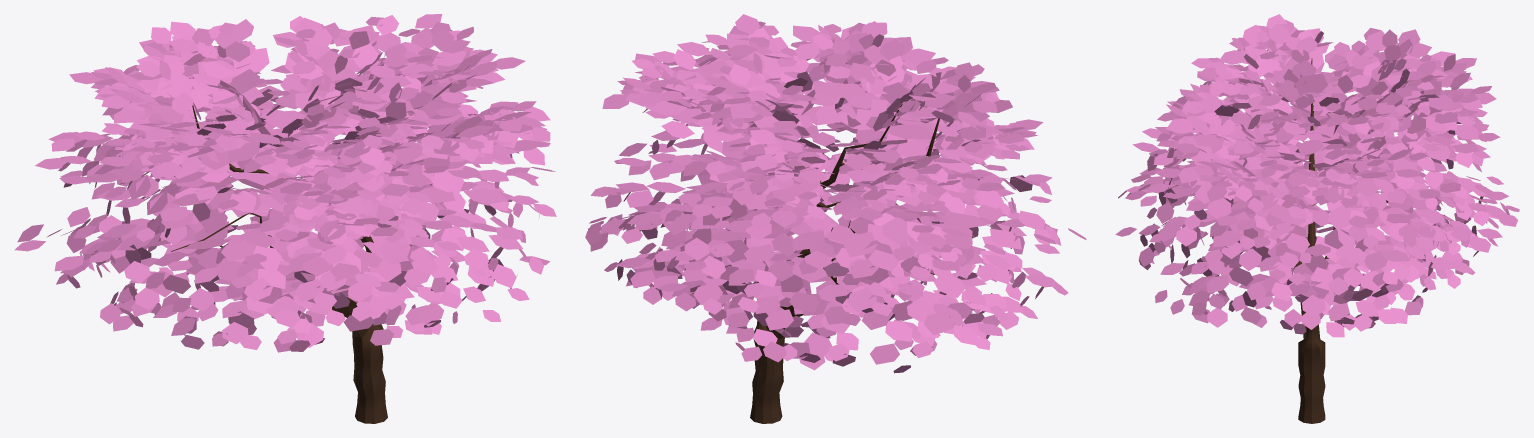
The picture shows the model from 3 angles, left to right: view 1: azimuth 30°, elevation 25°; view 2: azimuth 150°, elevation 25°; view 3: azimuth 270°, elevation 25°; orthographic projection. The views are drawn at different scales.
Visible parts, largest first — view 1: sakura_tree:sakura_tree:sakura_tree:than_cay2; view 2: sakura_tree:sakura_tree:sakura_tree:than_cay2; view 3: sakura_tree:sakura_tree:sakura_tree:than_cay2.
Part boxes in pixels (x1=…): sakura_tree:sakura_tree:sakura_tree:than_cay2: x1=14, y1=14, x2=556, y2=423; sakura_tree:sakura_tree:sakura_tree:than_cay2: x1=585, y1=14, x2=1086, y2=423; sakura_tree:sakura_tree:sakura_tree:than_cay2: x1=1115, y1=14, x2=1519, y2=423.
Bounding box in the file's own units: 7.2 × 5.53 × 6.24.
